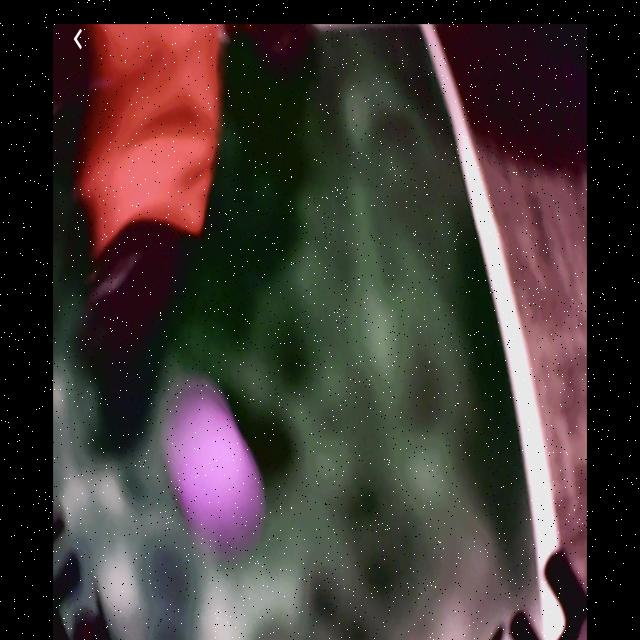ball: (177, 408, 258, 540)
